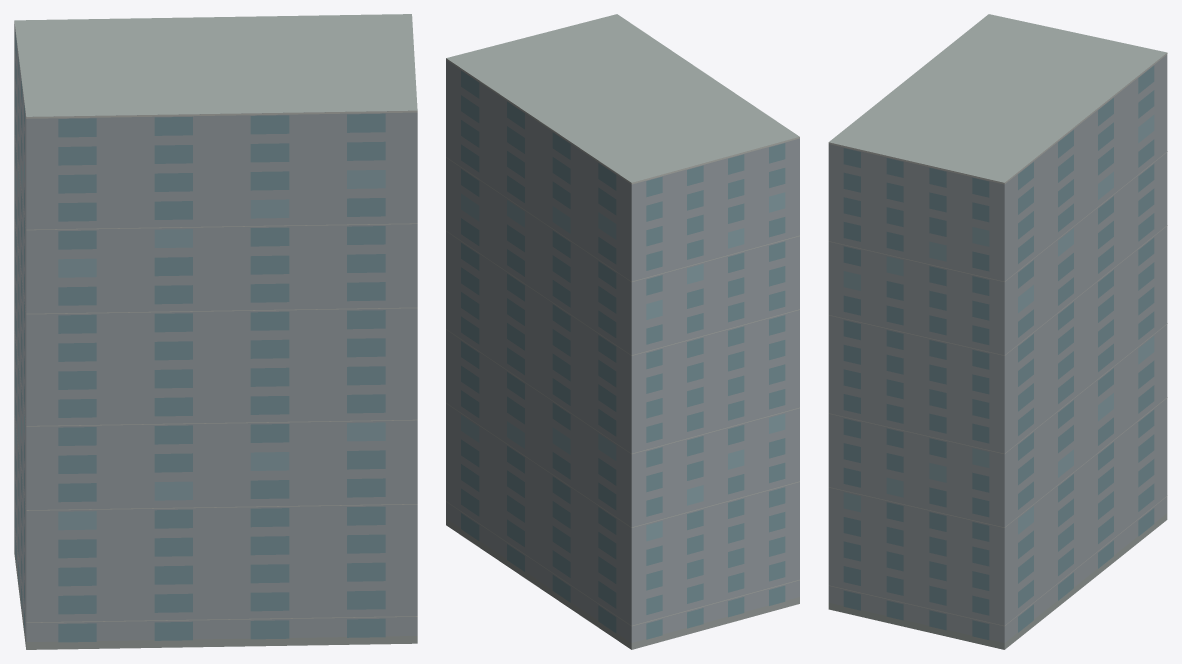
File: survey-upis-33042912.glb
The picture shows the model from 3 angles, left to right: view 1: azimuth 30°, elevation 25°; view 2: azimuth 150°, elevation 25°; view 3: azimuth 270°, elevation 25°; orthographic projection. The views are drawn at different scales.
Parts seen in each view (by area): view 1: survey-upis-33042912.tmp; view 2: survey-upis-33042912.tmp; view 3: survey-upis-33042912.tmp.
Part boxes in pixels (x1,y1,x2,y2): survey-upis-33042912.tmp: [14, 14, 417, 649]; survey-upis-33042912.tmp: [446, 14, 799, 649]; survey-upis-33042912.tmp: [828, 14, 1167, 649].
Size of the model in its own units: 52.42 by 67.6 by 44.47.
